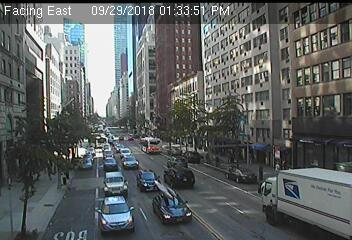car: (258, 167, 352, 240), (96, 197, 135, 233), (152, 191, 193, 224), (102, 171, 128, 199), (164, 167, 195, 189), (136, 169, 160, 193), (225, 167, 256, 184), (140, 137, 163, 155), (167, 156, 188, 170), (121, 156, 140, 171), (101, 157, 118, 173), (182, 151, 201, 164), (118, 148, 133, 160), (79, 158, 92, 171), (166, 147, 181, 157), (102, 149, 114, 160), (82, 152, 93, 163)
